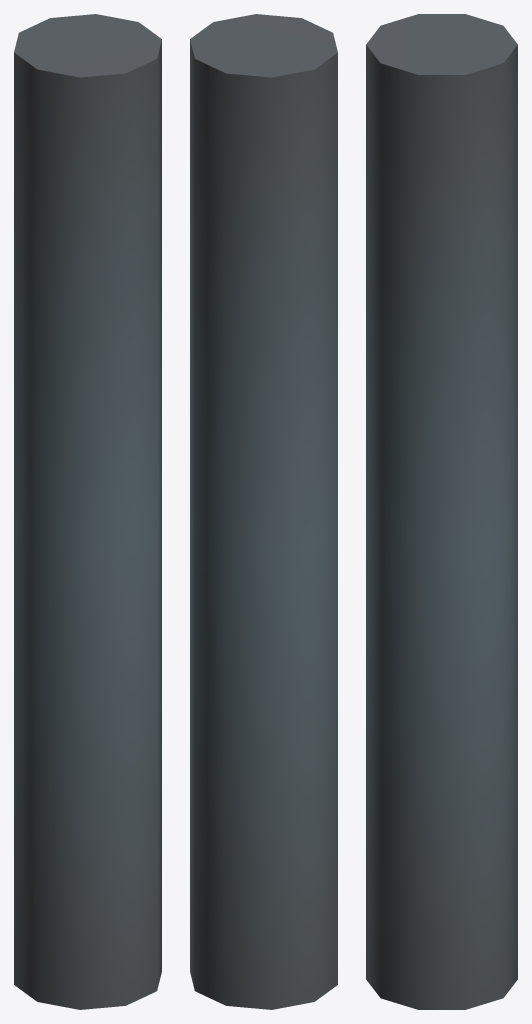
Rendered from SM_PipiB_04.fbx.
3 views of the same model, side by side, from view 1: azimuth 30°, elevation 25°; view 2: azimuth 150°, elevation 25°; view 3: azimuth 270°, elevation 25° (orthographic).
Visible parts, largest first — view 1: SM_PipiB_04; view 2: SM_PipiB_04; view 3: SM_PipiB_04.
Part boxes in pixels (x1=…): SM_PipiB_04: x1=14, y1=14, x2=161, y2=1009; SM_PipiB_04: x1=190, y1=14, x2=337, y2=1009; SM_PipiB_04: x1=366, y1=14, x2=517, y2=1009.
Size of the model in its own units: 0.1705 by 0.1793 by 1.22.
